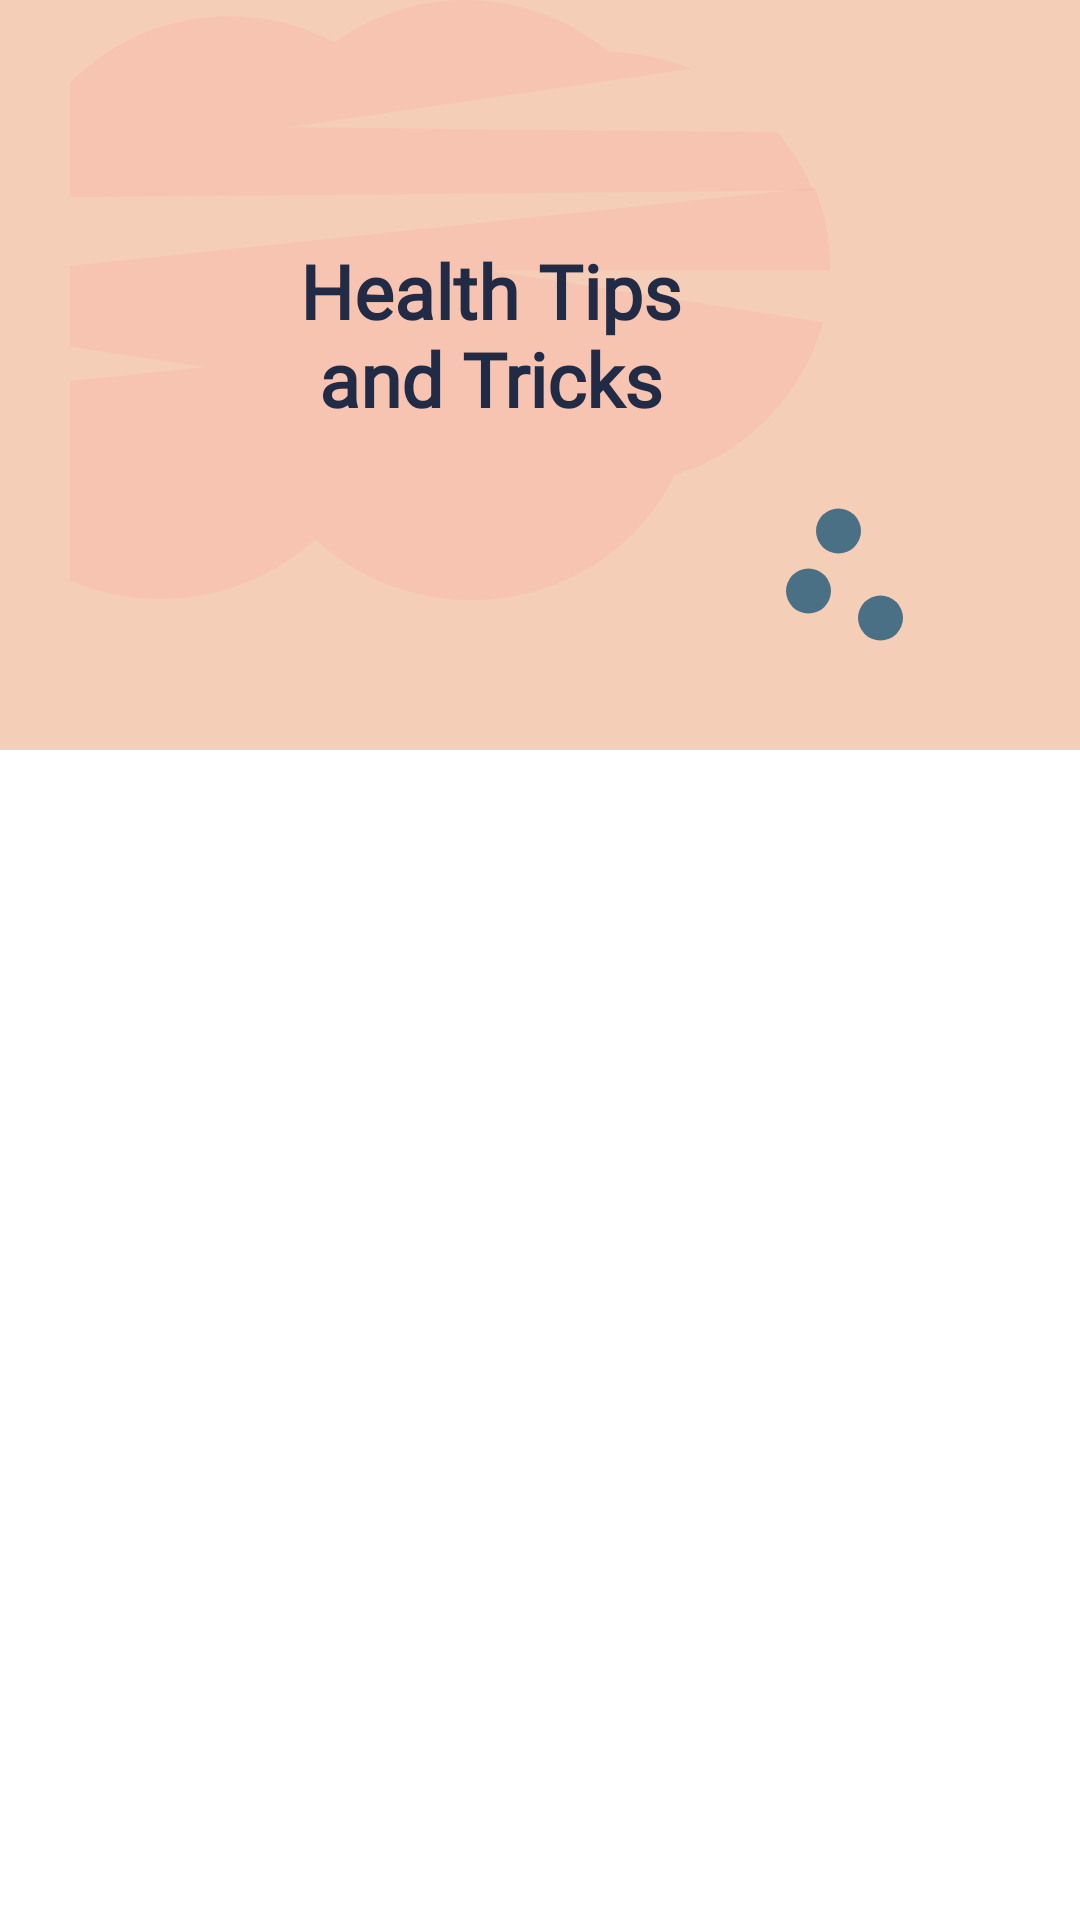

Icons on this 1080px x 1920px Android screen, each with the point to tap as (x=x, y=y):
scatter plot: (x=844, y=574)
